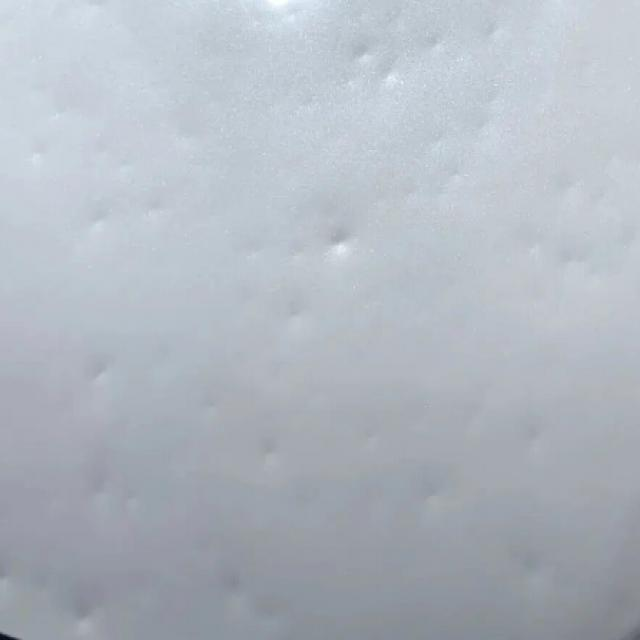dents: (506, 535, 577, 597), (275, 287, 326, 349), (402, 473, 456, 527), (207, 565, 258, 620), (544, 162, 590, 220), (455, 379, 498, 441), (62, 591, 116, 640), (191, 381, 235, 441), (87, 349, 134, 404), (518, 408, 555, 474), (520, 86, 572, 126), (324, 217, 359, 273), (475, 22, 520, 64), (563, 239, 598, 291), (252, 429, 294, 470), (74, 471, 120, 506), (344, 31, 385, 69), (80, 206, 116, 248), (398, 185, 442, 219), (136, 195, 168, 241), (420, 31, 453, 75), (21, 141, 59, 178), (246, 230, 277, 274), (172, 128, 206, 165), (332, 75, 363, 114), (291, 84, 321, 121), (424, 128, 452, 166), (524, 235, 548, 277), (91, 145, 120, 178), (294, 233, 316, 270), (42, 101, 71, 128)
